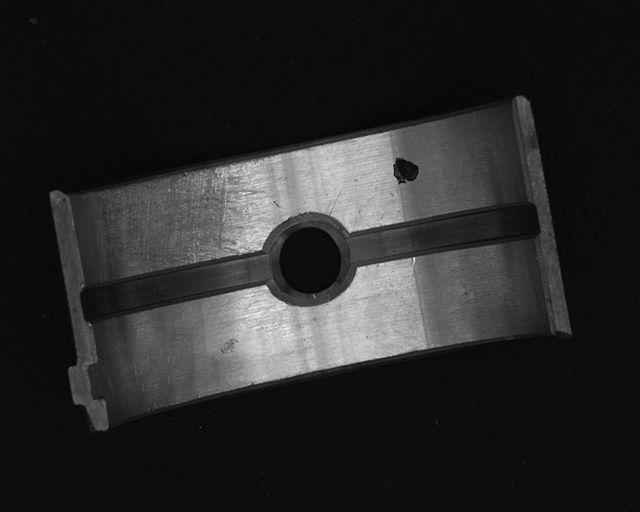blot: (393, 156, 419, 185)
bruise: (219, 337, 239, 356)
gap: (79, 251, 281, 325), (347, 202, 542, 267)
hole: (271, 218, 349, 303)
nick: (392, 256, 417, 327), (328, 179, 346, 218)
scratch: (80, 150, 268, 279)
